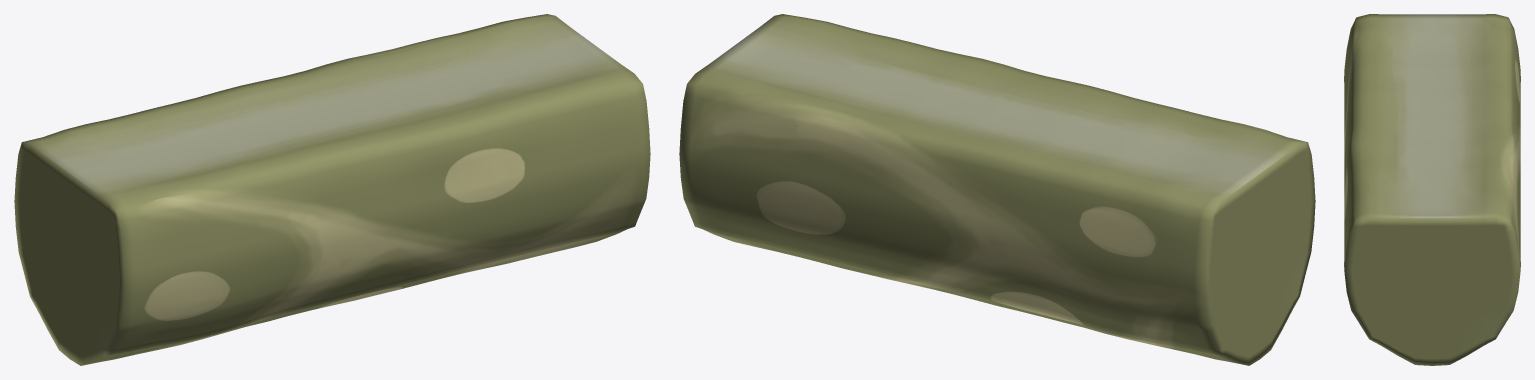
The model's file is StarPathStraight.fbx.
The picture shows the model from 3 angles, left to right: view 1: azimuth 30°, elevation 25°; view 2: azimuth 150°, elevation 25°; view 3: azimuth 270°, elevation 25°; orthographic projection. The views are drawn at different scales.
Visible parts, largest first — view 1: StarPathStraight; view 2: StarPathStraight; view 3: StarPathStraight.
Boxes of the visible parts, x1=… form: StarPathStraight: x1=14, y1=14, x2=650, y2=365; StarPathStraight: x1=679, y1=14, x2=1315, y2=365; StarPathStraight: x1=1344, y1=14, x2=1520, y2=365.
Bounding box in the file's own units: 600 × 207 × 220.
1 material, 1 textured.
